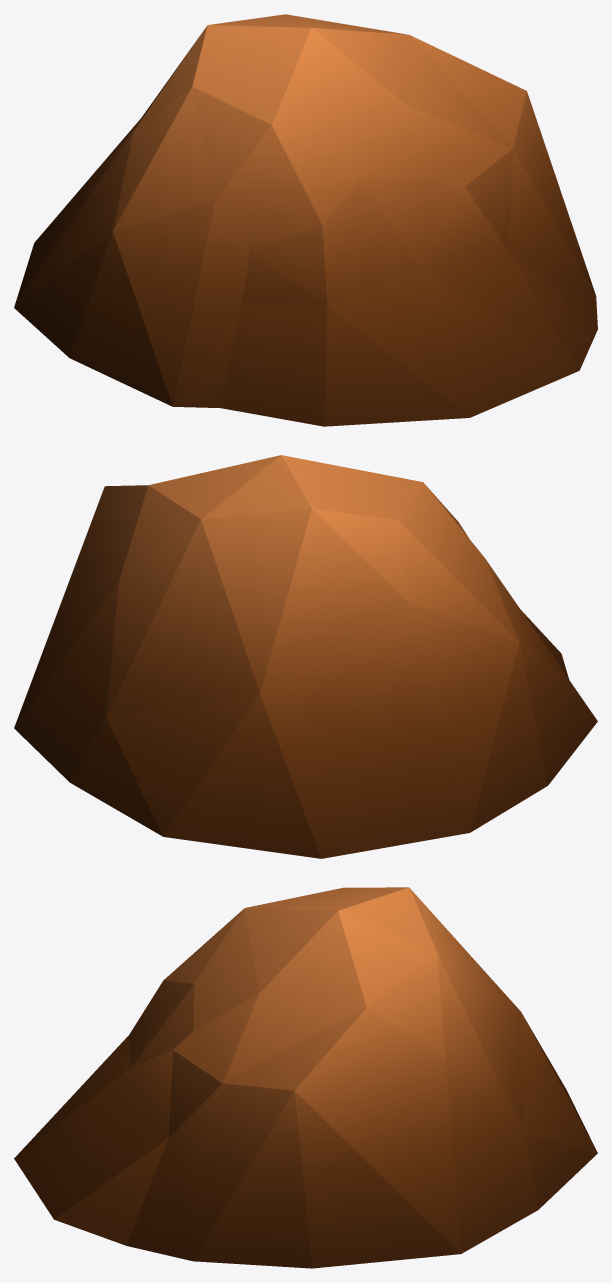
Rendered from pile_of_dirt_2.fbx.
The picture shows the model from 3 angles, top to bottom: view 1: azimuth 30°, elevation 25°; view 2: azimuth 150°, elevation 25°; view 3: azimuth 270°, elevation 25°; orthographic projection. The views are drawn at different scales.
Visible parts, largest first — view 1: pPlatonic1; view 2: pPlatonic1; view 3: pPlatonic1.
Boxes of the visible parts, box(x1,y1,x2,y2) form: pPlatonic1: box(14, 14, 597, 426); pPlatonic1: box(14, 455, 597, 858); pPlatonic1: box(14, 887, 597, 1268).
Size of the model in its own units: 2.22 by 1.18 by 2.47.
